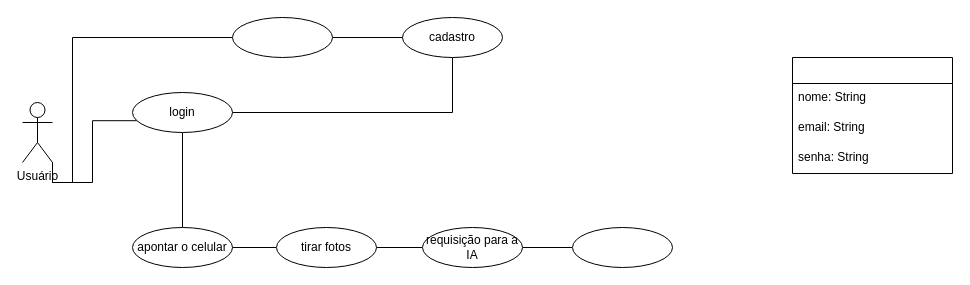
Image size: 970x285. Some labels were removed from this diagram. Each missing label, with the box of its shape:
descrever em voz alta: (572, 226, 672, 268)
não tem login: (232, 16, 332, 58)
usuario: (792, 56, 952, 174)
